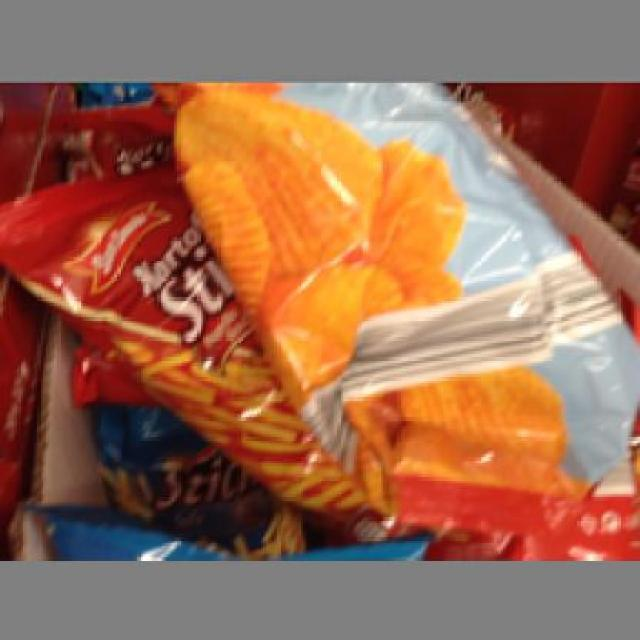Chips: (174, 83, 637, 480)
